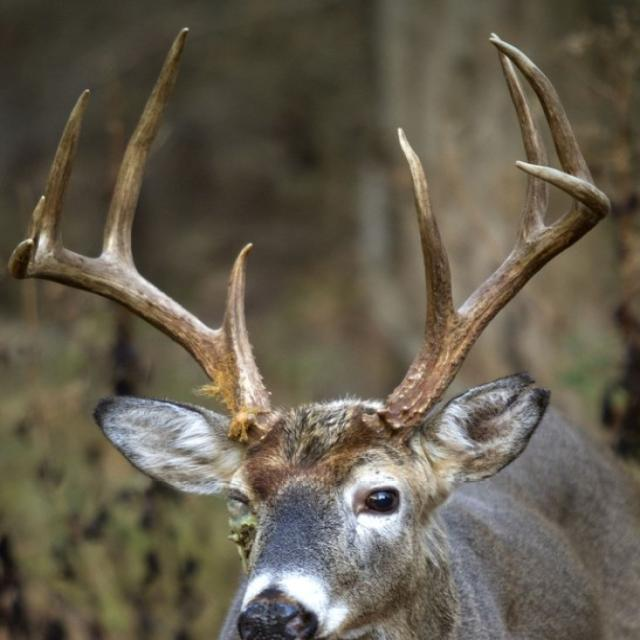L-F: (362, 159, 612, 456)
L-G1: (397, 127, 456, 334)
R-F: (8, 238, 277, 442)
R-G1: (219, 241, 254, 342)
R-G2: (100, 26, 189, 267)
R-G3: (37, 88, 90, 257)
